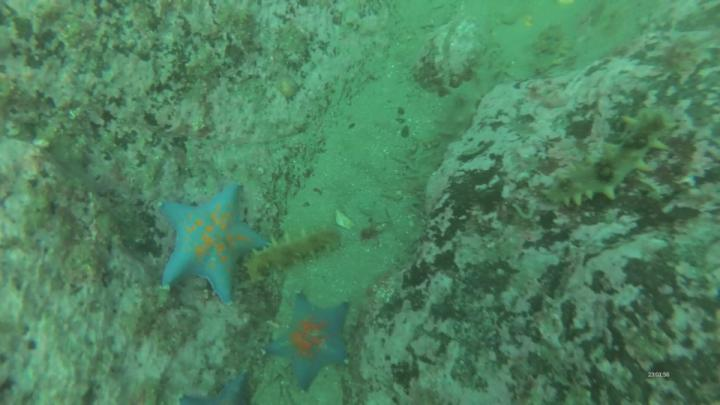holothurian: (550, 110, 677, 206), (248, 227, 338, 283), (442, 66, 498, 138)
starfish: (158, 184, 264, 301), (271, 294, 350, 388)
